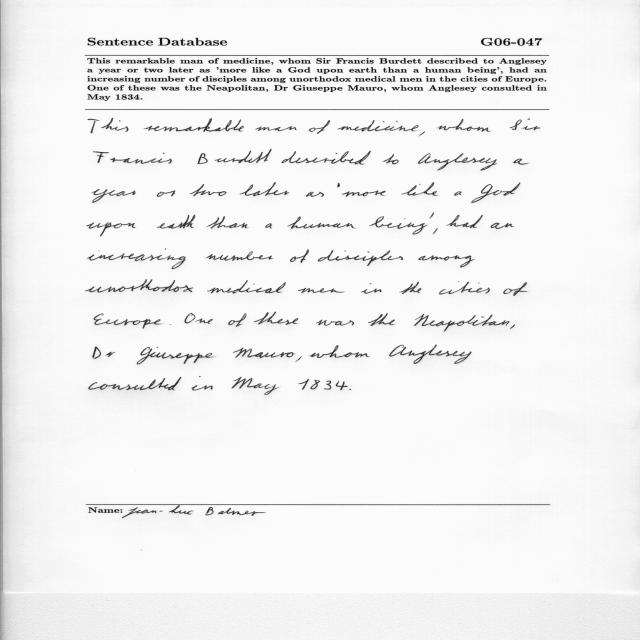word: (87, 249, 186, 269), (414, 314, 509, 331), (389, 345, 472, 364), (418, 153, 497, 171), (85, 280, 193, 293), (144, 118, 244, 132), (318, 250, 403, 266), (137, 347, 215, 364), (281, 151, 371, 165), (89, 377, 181, 390), (197, 149, 272, 164), (207, 280, 286, 294), (94, 313, 162, 329), (471, 182, 521, 203), (370, 217, 428, 235), (93, 151, 172, 164), (338, 120, 419, 132), (232, 377, 280, 395), (288, 217, 357, 229), (309, 345, 370, 358), (87, 222, 136, 237), (439, 281, 490, 295), (437, 119, 490, 132), (418, 256, 475, 268), (207, 251, 274, 261), (240, 183, 290, 196), (233, 348, 295, 358), (92, 189, 136, 203), (88, 118, 129, 133), (254, 312, 298, 325), (206, 216, 249, 229), (299, 379, 348, 390), (157, 215, 195, 229), (401, 182, 438, 196), (446, 215, 483, 228), (190, 184, 227, 196), (509, 119, 541, 131), (368, 313, 395, 326), (503, 282, 528, 296), (342, 190, 386, 197), (191, 377, 213, 391), (309, 120, 330, 134), (93, 346, 115, 359), (290, 249, 309, 263), (228, 313, 247, 327), (400, 282, 422, 294), (298, 288, 345, 293), (316, 320, 354, 326), (361, 283, 381, 294), (255, 126, 297, 131), (382, 154, 399, 165), (491, 223, 515, 229), (157, 190, 176, 197), (185, 313, 196, 323), (196, 318, 213, 324), (513, 159, 529, 165), (306, 192, 324, 197), (454, 191, 462, 196), (296, 356, 302, 362), (265, 224, 272, 229), (419, 131, 425, 136), (433, 228, 438, 234), (510, 324, 515, 329), (430, 213, 434, 219), (337, 183, 340, 187), (349, 389, 351, 390)
